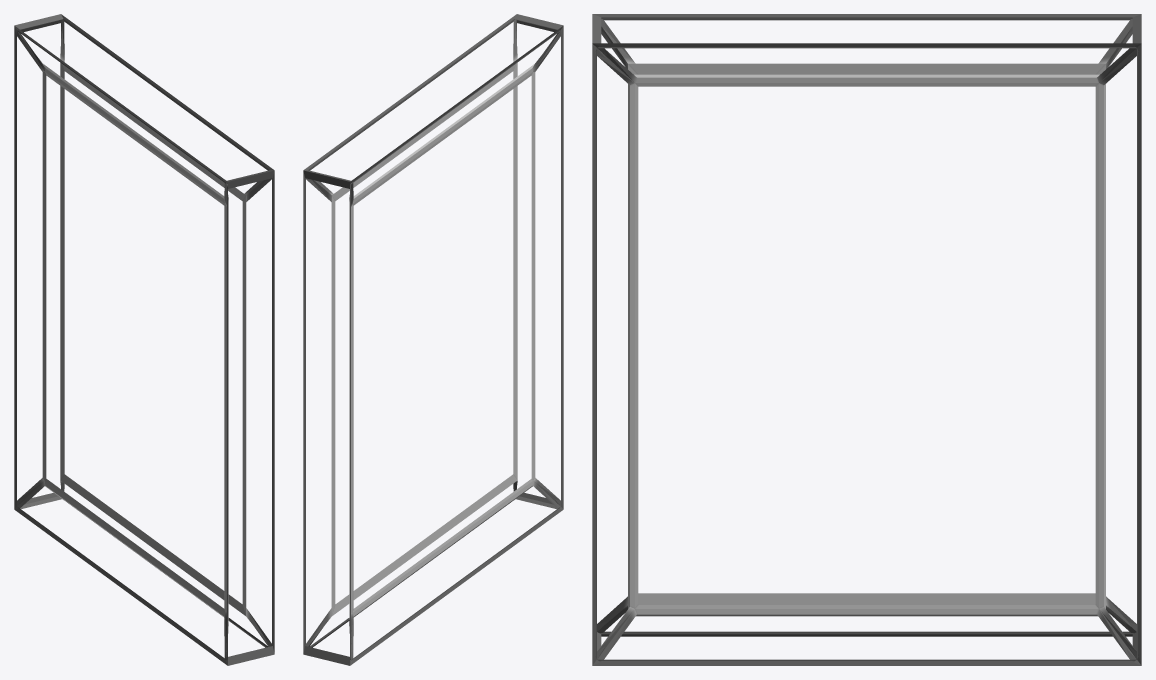
Rendered from warp_wire.obj.
3 renders of one model, left to right at view 1: azimuth 30°, elevation 25°; view 2: azimuth 150°, elevation 25°; view 3: azimuth 270°, elevation 25°, orthographic. The views are drawn at different scales.
Visible parts, largest first — view 1: warp_立方体; view 2: warp_立方体; view 3: warp_立方体.
Part boxes in pixels (x1,y1,x2,y2): warp_立方体: [14, 14, 274, 665]; warp_立方体: [303, 14, 563, 665]; warp_立方体: [592, 14, 1141, 665].
Size of the model in its own units: 0.2043 by 2.02 by 1.61.
1 material, 1 textured.
